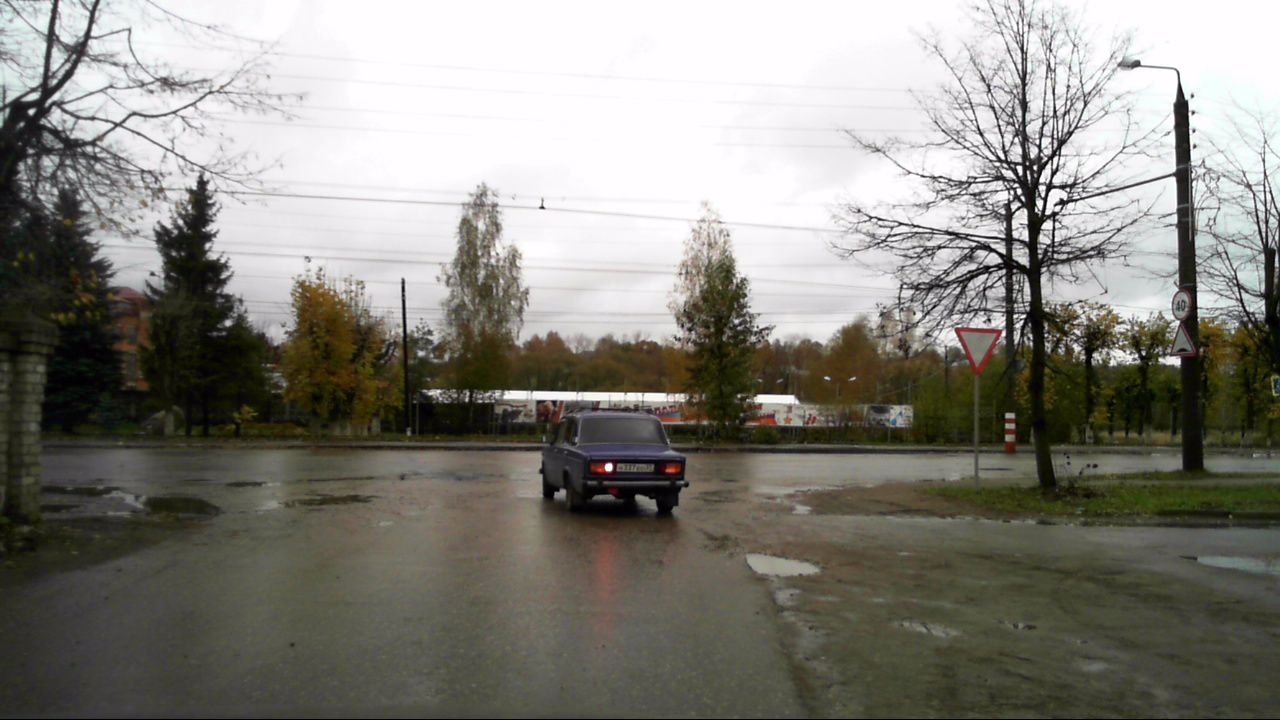speed_warning_40: (1171, 291, 1195, 323)
